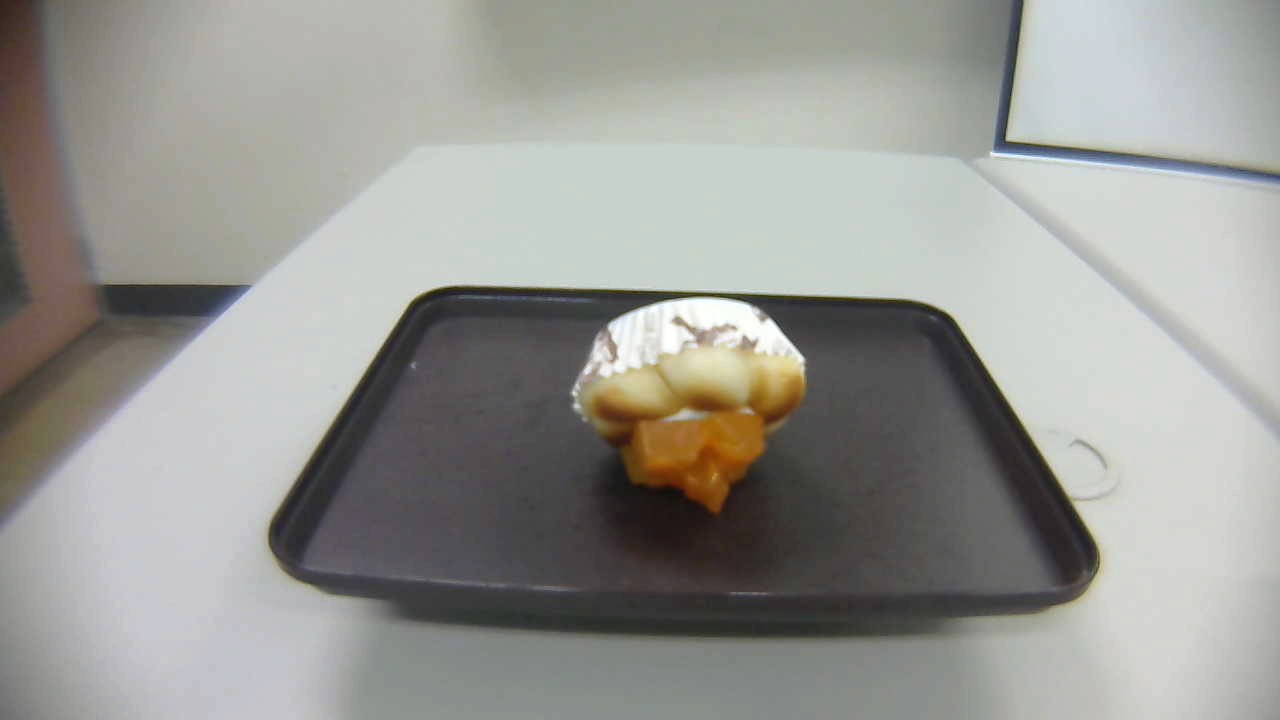mango tart: (569, 295, 806, 513)
